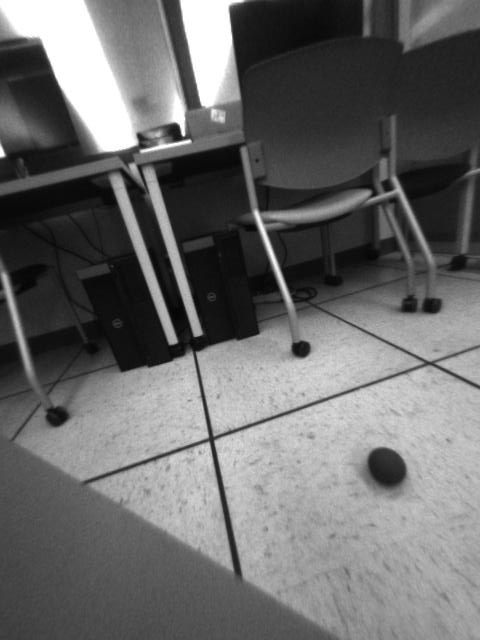dogtoy: (359, 440, 417, 493)
